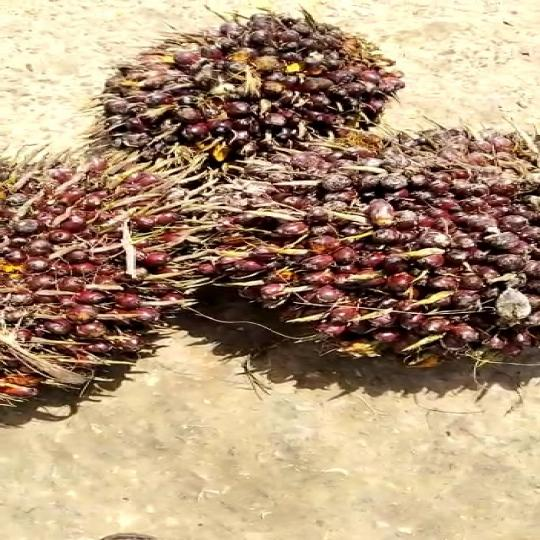kurang masak: (161, 119, 540, 380), (87, 9, 401, 199), (0, 151, 202, 430)
